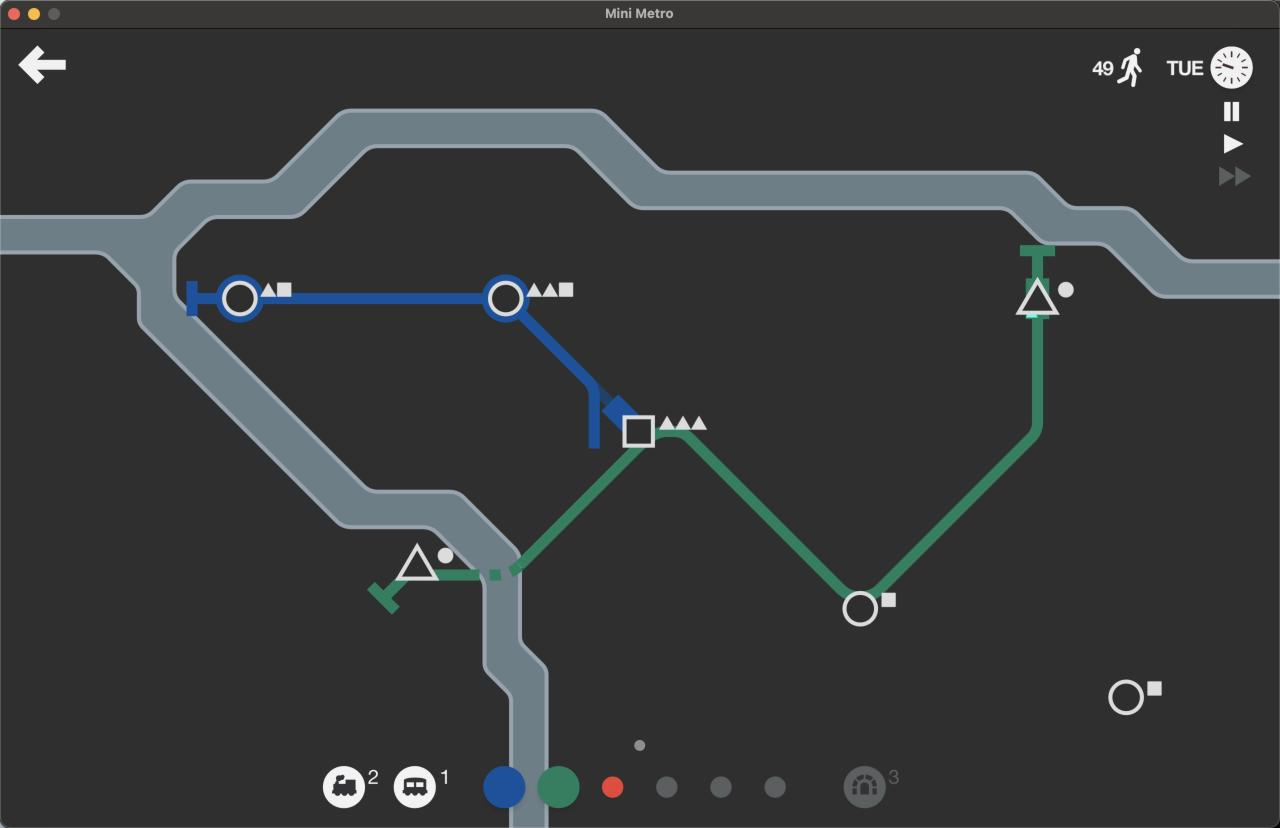CIRCLE: (482, 274, 529, 320), (1107, 677, 1146, 716), (841, 589, 879, 627), (222, 280, 256, 315)
SQUARE: (623, 415, 657, 449)
TRIANGLE: (393, 540, 443, 584), (1014, 276, 1061, 318)
